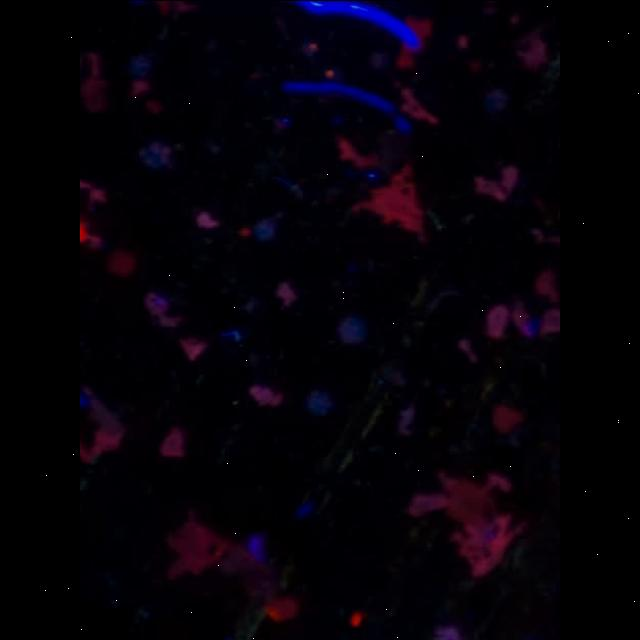Fragment: (407, 471, 525, 576)
